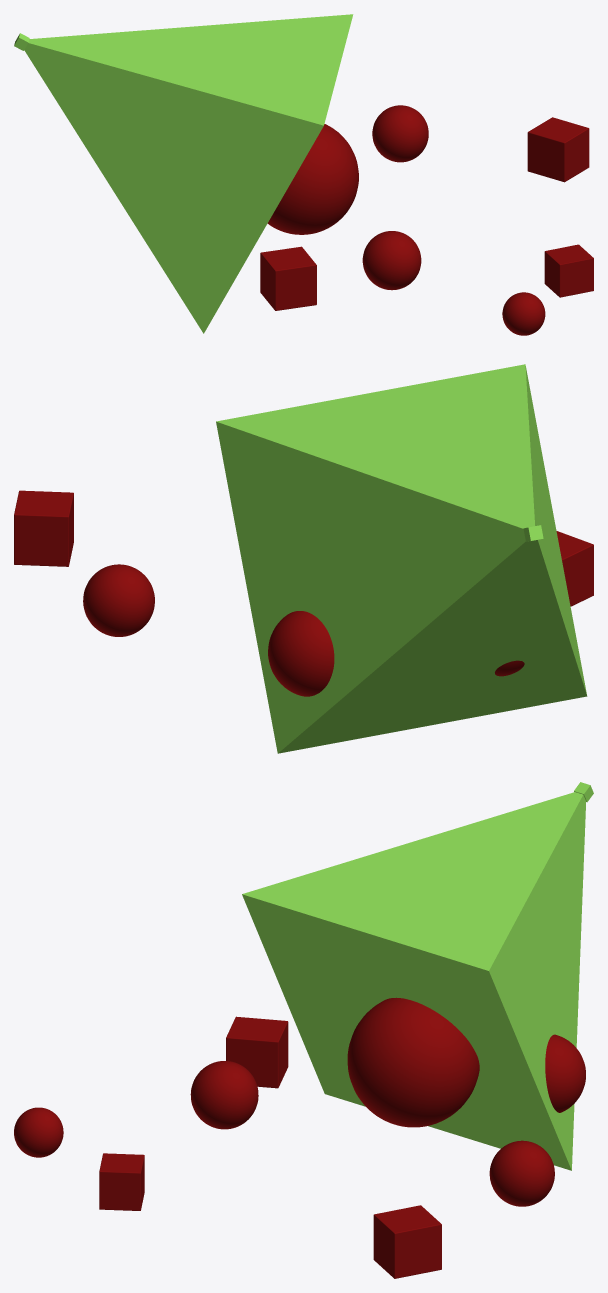
3 renders of one model, top to bottom at view 1: azimuth 30°, elevation 25°; view 2: azimuth 150°, elevation 25°; view 3: azimuth 270°, elevation 25°, orthographic. The views are drawn at different scales.
Visible parts, largest first — view 1: Camera_Beam, Sphere_Chrome, Cube_Left_Top, Cube_Right_Bottom, Sphere_Right_PolishedMetal, Sphere_Left_Middle, Cube_Right_Top, Sphere_Far; view 2: Camera_Beam, Sphere_Left_Polished, Cube_Left_Top, Sphere_Left_Middle, Cube_Right_Bottom; view 3: Camera_Beam, Sphere_Chrome, Cube_Left_Top, Sphere_Right_PolishedMetal, Cube_Right_Bottom, Sphere_Left_Middle, Cube_Right_Top, Sphere_Left_Polished, Sphere_Far.
Part boxes in pixels (bbox=[...]): Camera_Beam: bbox=[24, 14, 353, 333]; Sphere_Chrome: bbox=[267, 124, 358, 234]; Cube_Left_Top: bbox=[527, 117, 589, 182]; Cube_Right_Bottom: bbox=[260, 246, 316, 310]; Sphere_Right_PolishedMetal: bbox=[362, 231, 421, 290]; Sphere_Left_Middle: bbox=[372, 105, 428, 162]; Cube_Right_Top: bbox=[544, 244, 593, 297]; Sphere_Far: bbox=[502, 292, 545, 335]; Camera_Beam: bbox=[216, 364, 587, 753]; Sphere_Left_Polished: bbox=[268, 611, 334, 696]; Cube_Left_Top: bbox=[14, 490, 73, 566]; Sphere_Left_Middle: bbox=[83, 564, 154, 636]; Cube_Right_Bottom: bbox=[556, 531, 593, 606]; Camera_Beam: bbox=[242, 792, 586, 1170]; Sphere_Chrome: bbox=[347, 997, 479, 1127]; Cube_Left_Top: bbox=[373, 1205, 441, 1278]; Sphere_Right_PolishedMetal: bbox=[190, 1061, 258, 1129]; Cube_Right_Bottom: bbox=[226, 1016, 288, 1088]; Sphere_Left_Middle: bbox=[489, 1140, 554, 1206]; Cube_Right_Top: bbox=[99, 1153, 144, 1210]; Sphere_Left_Polished: bbox=[545, 1034, 585, 1112]; Sphere_Far: bbox=[14, 1107, 63, 1157].
Size of what is drawn, in the model's own units: 316 by 143 by 278.
